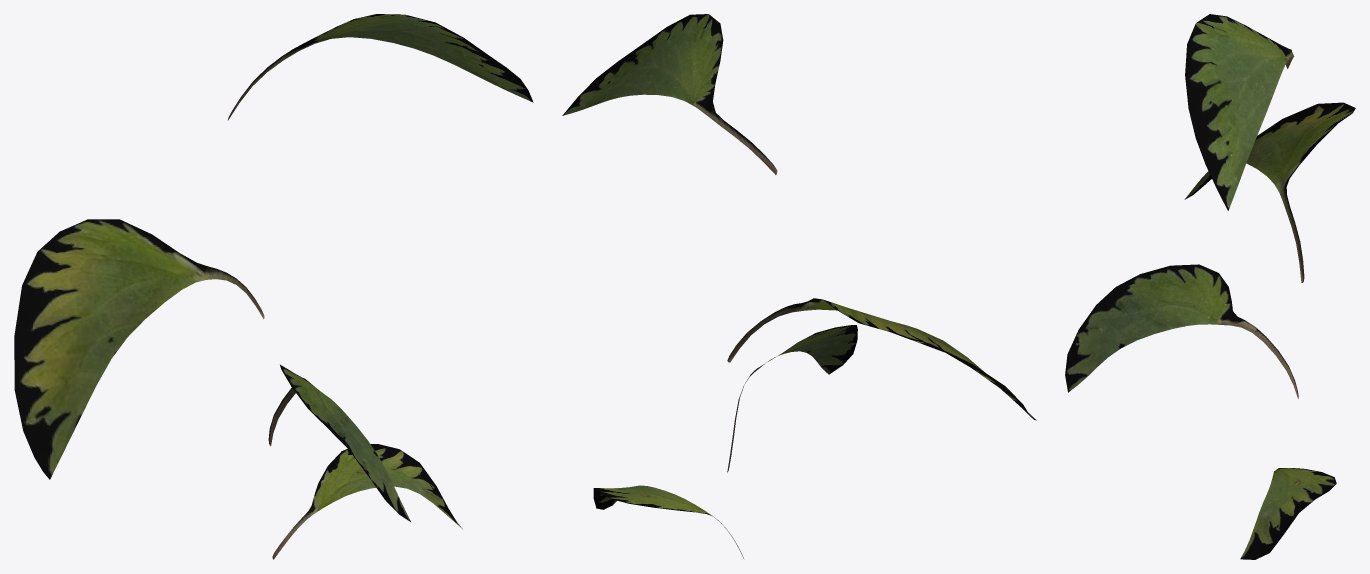
The model's file is nettle.gltf.
3 views of the same model, side by side, from view 1: azimuth 30°, elevation 25°; view 2: azimuth 150°, elevation 25°; view 3: azimuth 270°, elevation 25° (orthographic). The views are drawn at different scales.
Visible parts, largest first — view 1: nettle; view 2: nettle; view 3: nettle.
Part boxes in pixels (bbox=[...]): nettle: bbox=[14, 14, 533, 559]; nettle: bbox=[562, 14, 1036, 558]; nettle: bbox=[1065, 14, 1355, 559].
Bounding box in the file's own units: 0.3371 × 0.3498 × 0.183.
Materials: 1 (1 with a texture image).
